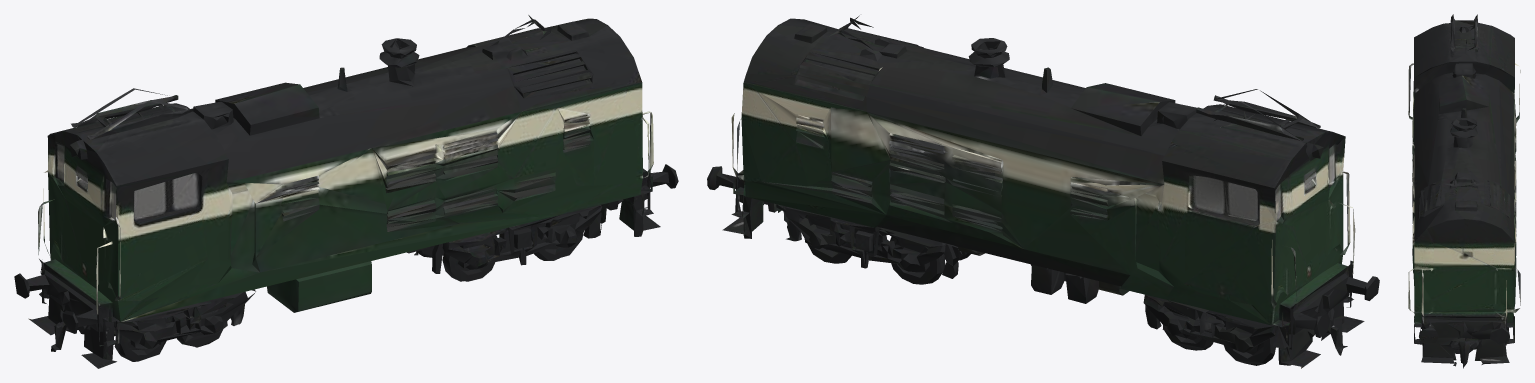
The model's file is train.glb.
The picture shows the model from 3 angles, left to right: view 1: azimuth 30°, elevation 25°; view 2: azimuth 150°, elevation 25°; view 3: azimuth 270°, elevation 25°; orthographic projection. The views are drawn at different scales.
Size of the model in its own units: 1.9 by 0.7562 by 0.4213.
Materials: 1 (1 with a texture image).
